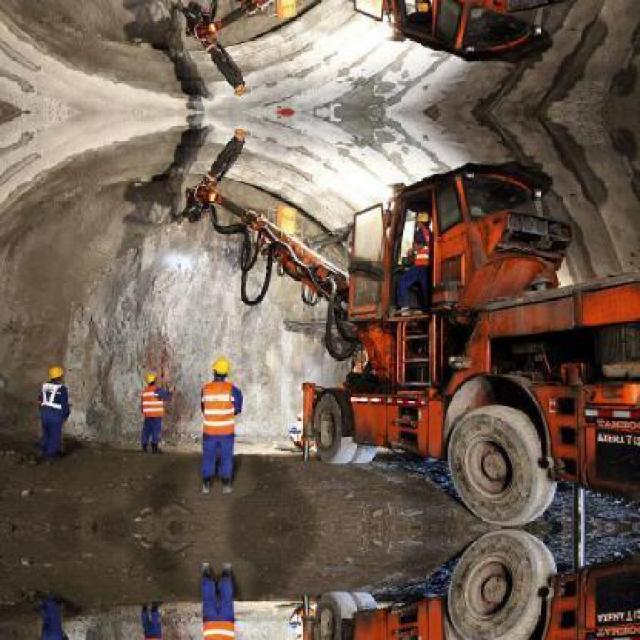boots: (200, 478, 212, 494), (220, 478, 232, 494)
hard-hat: (212, 358, 230, 374), (48, 365, 63, 379), (415, 212, 429, 223), (144, 372, 156, 384)
person: (199, 357, 243, 495), (395, 210, 432, 314), (36, 364, 71, 460), (199, 560, 237, 640), (139, 373, 173, 454)
ppe-suit: (197, 380, 242, 482), (37, 380, 70, 458), (139, 386, 168, 449)
vest: (402, 227, 433, 275)
